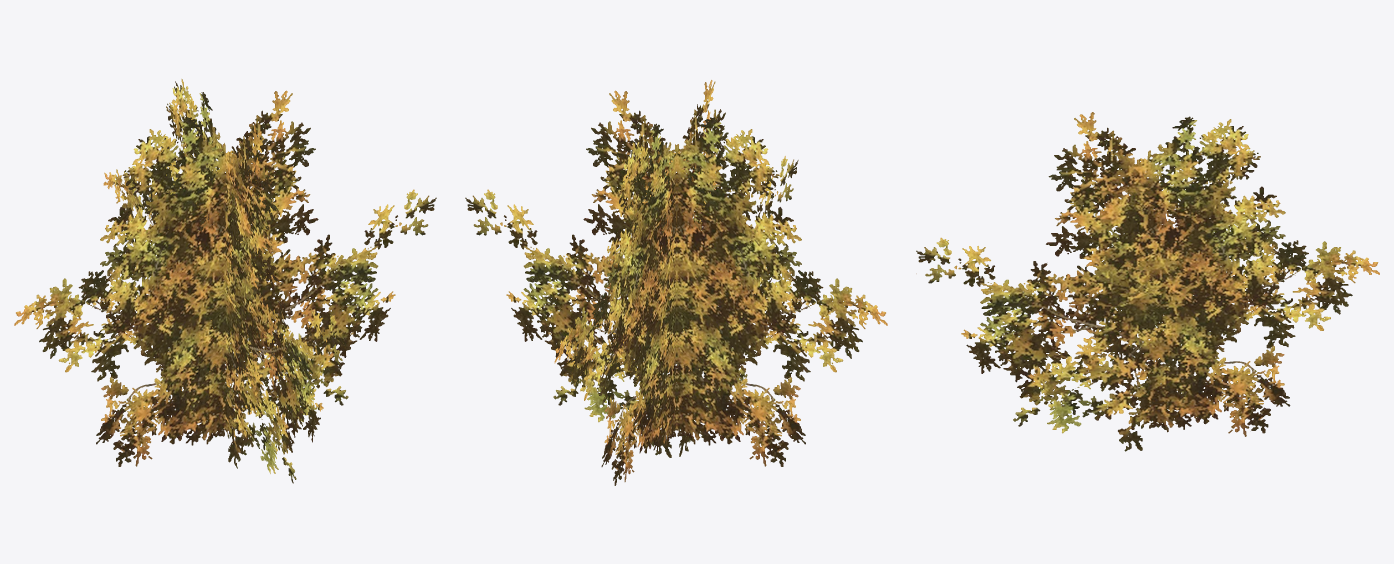
3 views of the same model, side by side, from view 1: azimuth 30°, elevation 25°; view 2: azimuth 150°, elevation 25°; view 3: azimuth 270°, elevation 25° (orthographic). The views are drawn at different scales.
Parts seen in each view (by area): view 1: billboard; view 2: billboard; view 3: billboard.
Part boxes in pixels (x1,y1,x2,y2): billboard: (14,79,436,483); billboard: (465,80,887,485); billboard: (916,112,1379,451).
Bounding box in the file's own units: 34.98 × 28.29 × 34.98.
Materials: 1 (1 with a texture image).
